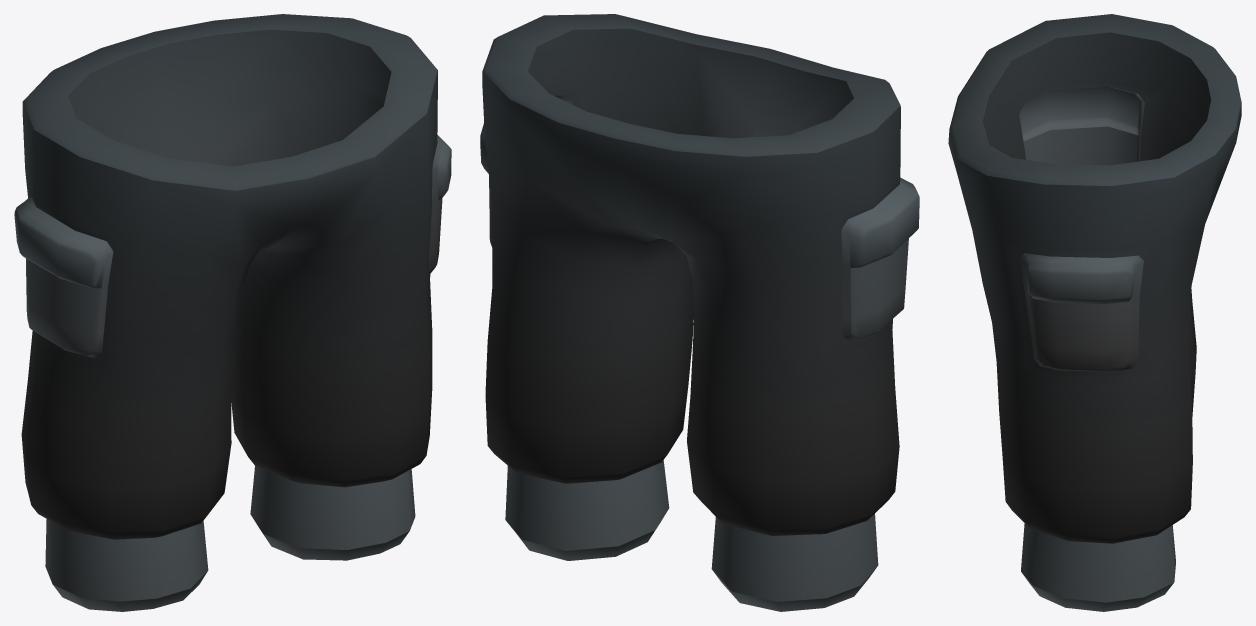
Rendered from Pants_06.glb.
The picture shows the model from 3 angles, left to right: view 1: azimuth 30°, elevation 25°; view 2: azimuth 150°, elevation 25°; view 3: azimuth 270°, elevation 25°; orthographic projection. The views are drawn at different scales.
Parts seen in each view (by area): view 1: Pants_06; view 2: Pants_06; view 3: Pants_06.
Boxes of the visible parts, x1,y1,x2,y2 form: Pants_06: (14, 14, 451, 611); Pants_06: (480, 14, 919, 611); Pants_06: (948, 14, 1241, 611).
Size of the model in its own units: 0.2668 by 0.2964 by 0.1787.
1 material, 1 textured.
